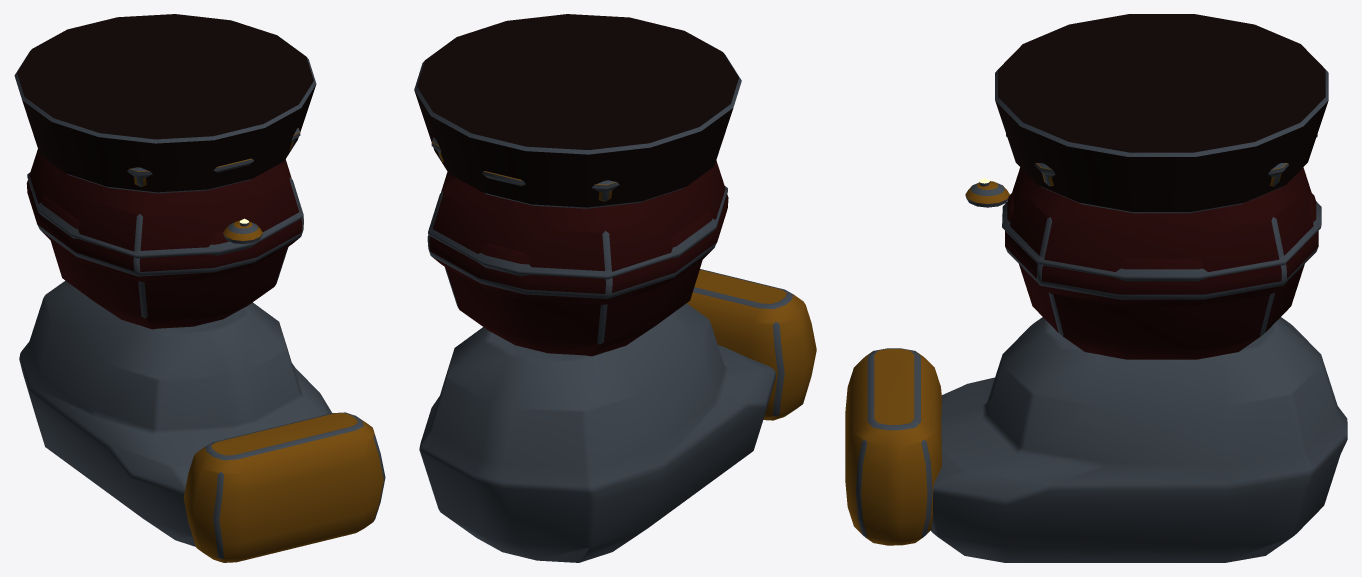
File: Bastiao_BotaR.fbx
3 renders of one model, left to right at view 1: azimuth 30°, elevation 25°; view 2: azimuth 150°, elevation 25°; view 3: azimuth 270°, elevation 25°, orthographic. The views are drawn at different scales.
Visible parts, largest first — view 1: Piece; view 2: Piece; view 3: Piece.
Boxes of the visible parts, x1=… form: Piece: x1=14, y1=14, x2=385, y2=562; Piece: x1=414, y1=14, x2=816, y2=562; Piece: x1=845, y1=14, x2=1347, y2=562.
Bounding box in the file's own units: 0.2144 × 0.3186 × 0.323.
